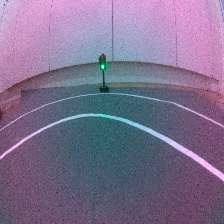green: (97, 53, 113, 93)
